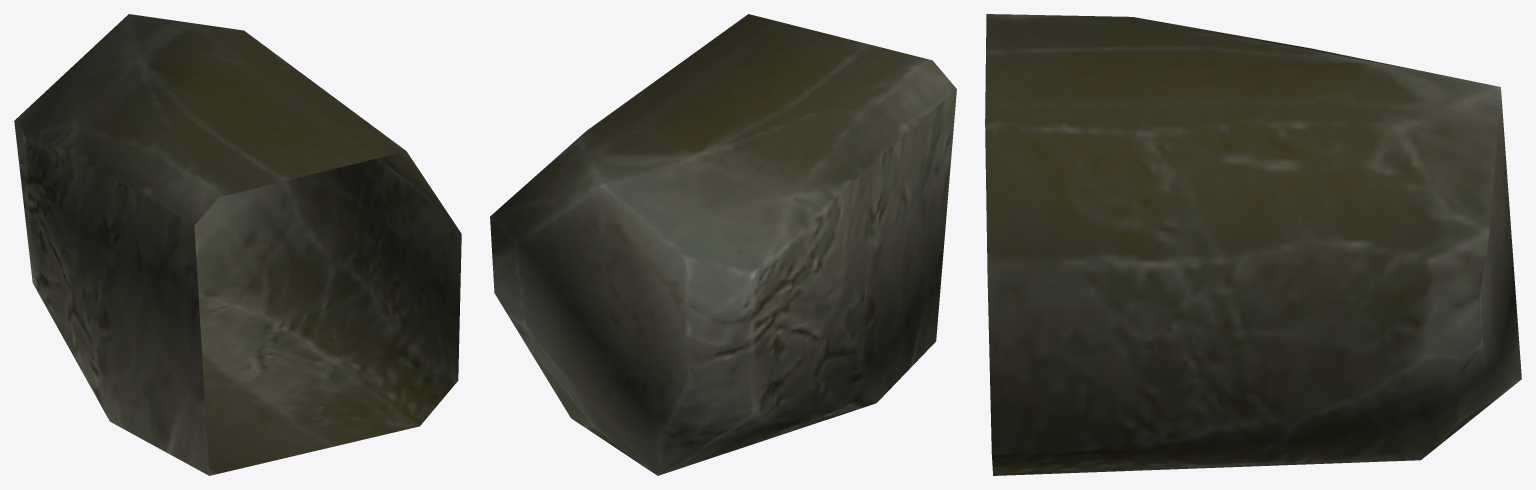
File: TI_Rock_07_Part_04_b.fbx
3 views of the same model, side by side, from view 1: azimuth 30°, elevation 25°; view 2: azimuth 150°, elevation 25°; view 3: azimuth 270°, elevation 25° (orthographic). The views are drawn at different scales.
Visible parts, largest first — view 1: TI_Rock_07_Part_04_b; view 2: TI_Rock_07_Part_04_b; view 3: TI_Rock_07_Part_04_b.
Part boxes in pixels (x1,y1,x2,y2): TI_Rock_07_Part_04_b: (14, 14, 461, 475); TI_Rock_07_Part_04_b: (490, 14, 956, 475); TI_Rock_07_Part_04_b: (985, 14, 1521, 475).
Bounding box in the file's own units: 0.5441 × 0.5357 × 0.7574.
